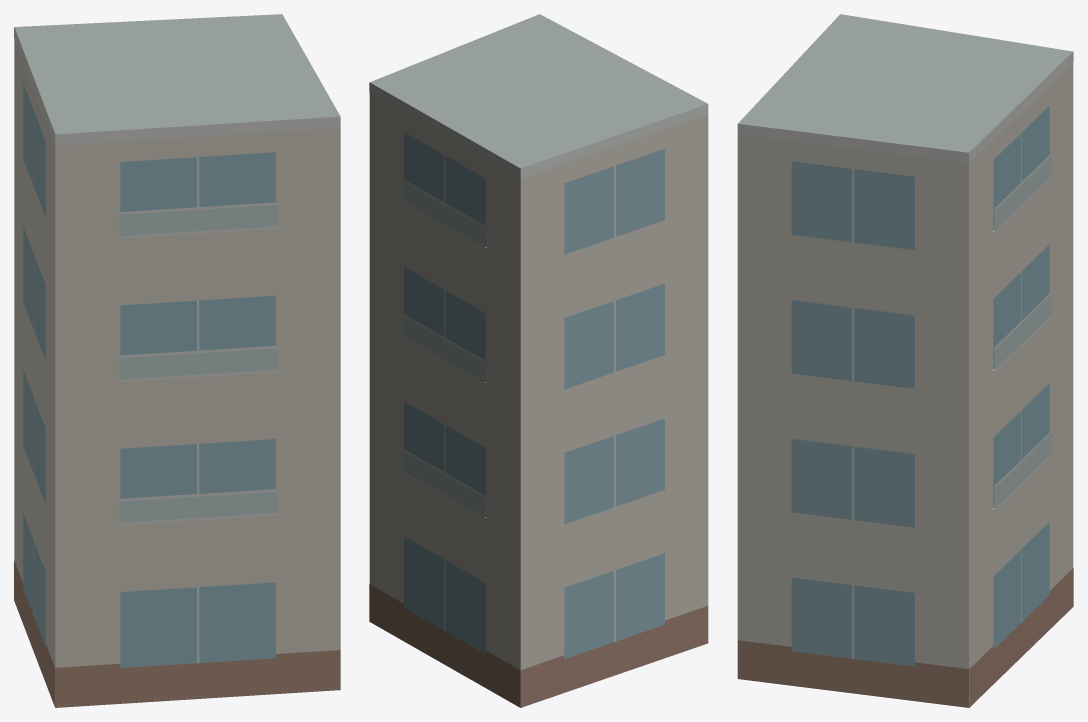
Rendered from survey-upis-32458618.glb.
3 renders of one model, left to right at view 1: azimuth 30°, elevation 25°; view 2: azimuth 150°, elevation 25°; view 3: azimuth 270°, elevation 25°, orthographic. The views are drawn at different scales.
Parts seen in each view (by area): view 1: survey-upis-32458618.tmp; view 2: survey-upis-32458618.tmp; view 3: survey-upis-32458618.tmp.
Part boxes in pixels (x1,y1,x2,y2): survey-upis-32458618.tmp: (14,14,340,707); survey-upis-32458618.tmp: (369,14,708,707); survey-upis-32458618.tmp: (737,14,1073,707).
Bounding box in the file's own units: 6.87 × 12.8 × 7.02.
